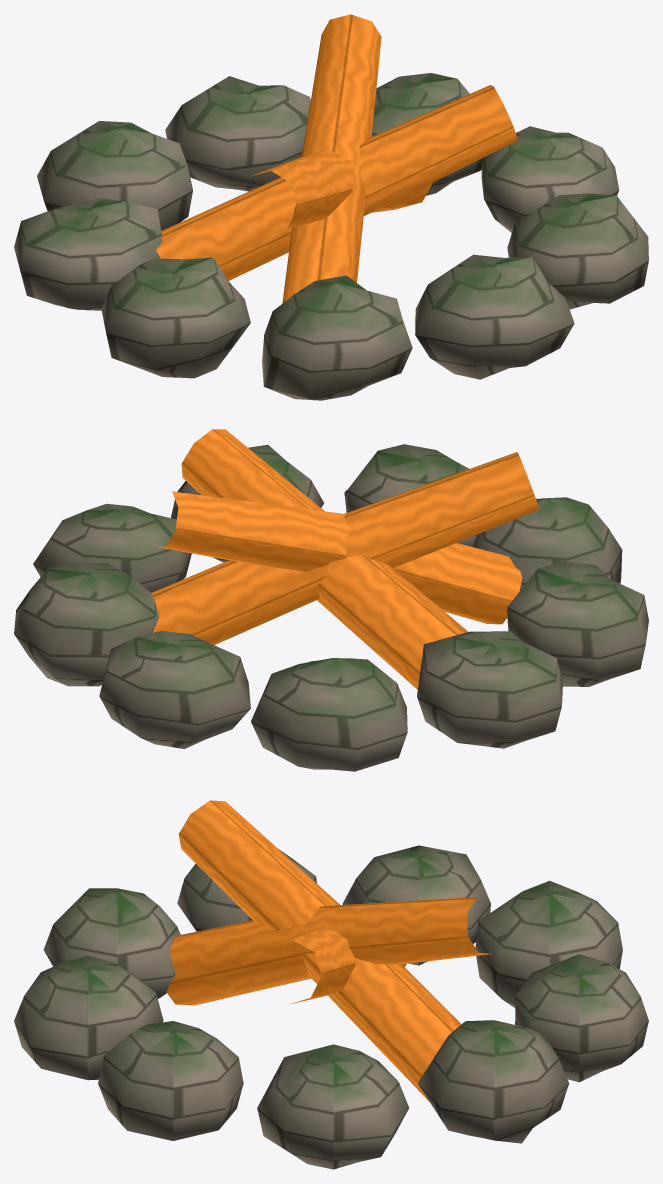
Rendered from campfire.glb.
3 views of the same model, one above another, from view 1: azimuth 30°, elevation 25°; view 2: azimuth 150°, elevation 25°; view 3: azimuth 270°, elevation 25° (orthographic).
Parts seen in each view (by area): view 1: campfire; view 2: campfire; view 3: campfire.
Part boxes in pixels (bbox=[...]): campfire: bbox=[14, 14, 648, 400]; campfire: bbox=[14, 429, 648, 771]; campfire: bbox=[14, 800, 648, 1169].
Size of the model in its own units: 59.24 by 20.58 by 58.53.
2 materials, 2 textured.
